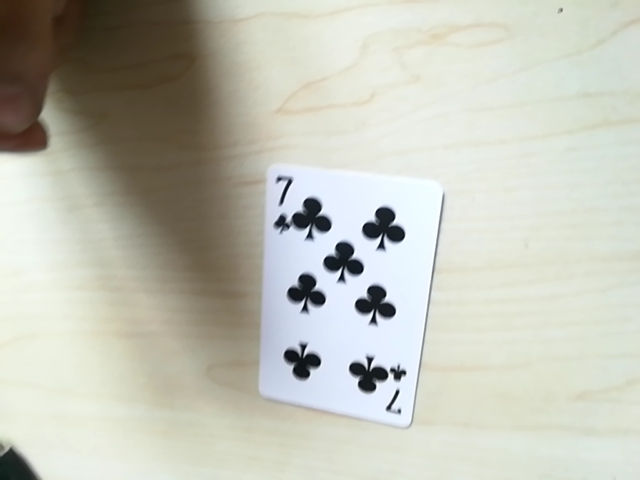mh 7: (264, 170, 305, 223), (373, 366, 409, 422)
